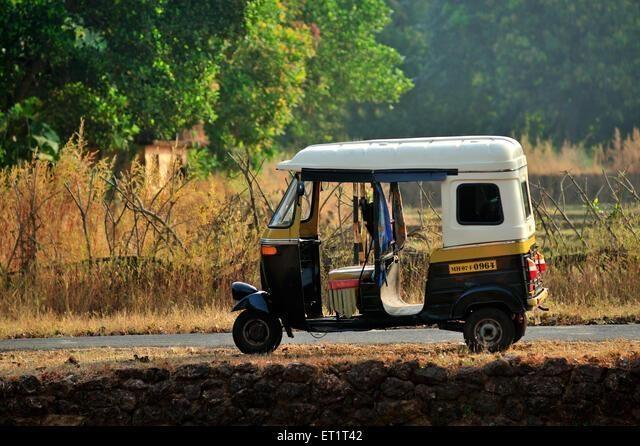keke: (223, 135, 550, 365)
